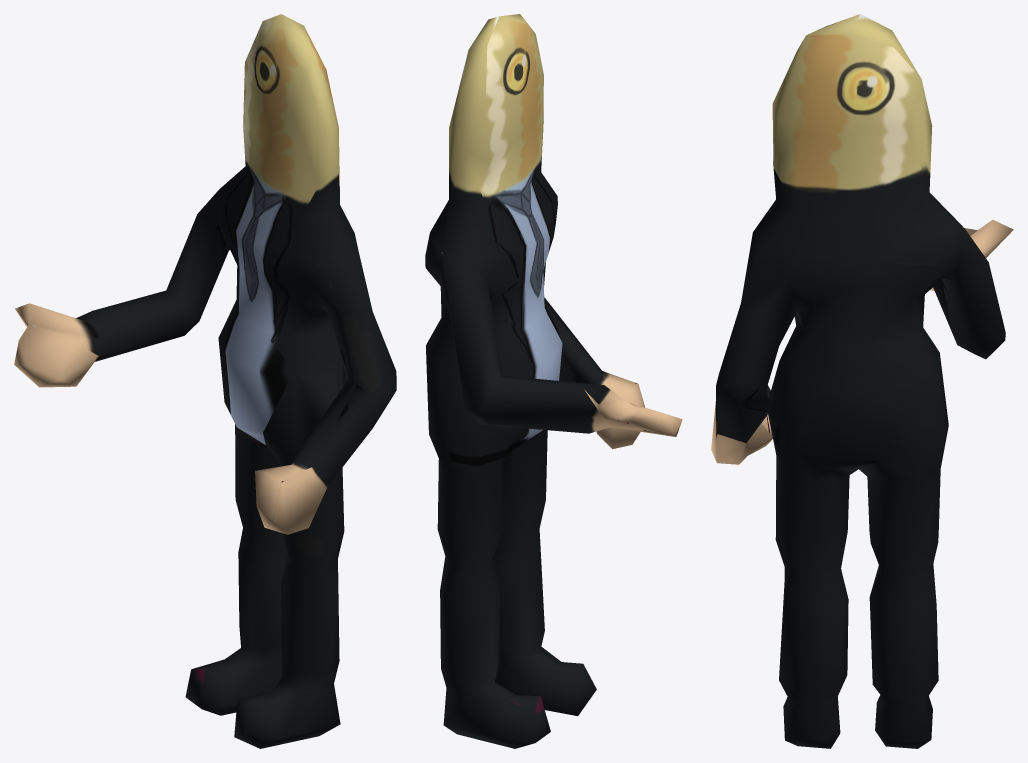
Rendered from vobla.glb.
3 views of the same model, side by side, from view 1: azimuth 30°, elevation 25°; view 2: azimuth 150°, elevation 25°; view 3: azimuth 270°, elevation 25° (orthographic). The views are drawn at different scales.
Visible parts, largest first — view 1: Mball.022; view 2: Mball.022; view 3: Mball.022.
Part boxes in pixels (x1,y1,x2,y2): Mball.022: (14,14,396,748); Mball.022: (425,14,682,748); Mball.022: (711,14,1013,748).
Bounding box in the file's own units: 2.62 × 6.2 × 2.34.
1 material, 1 textured.
